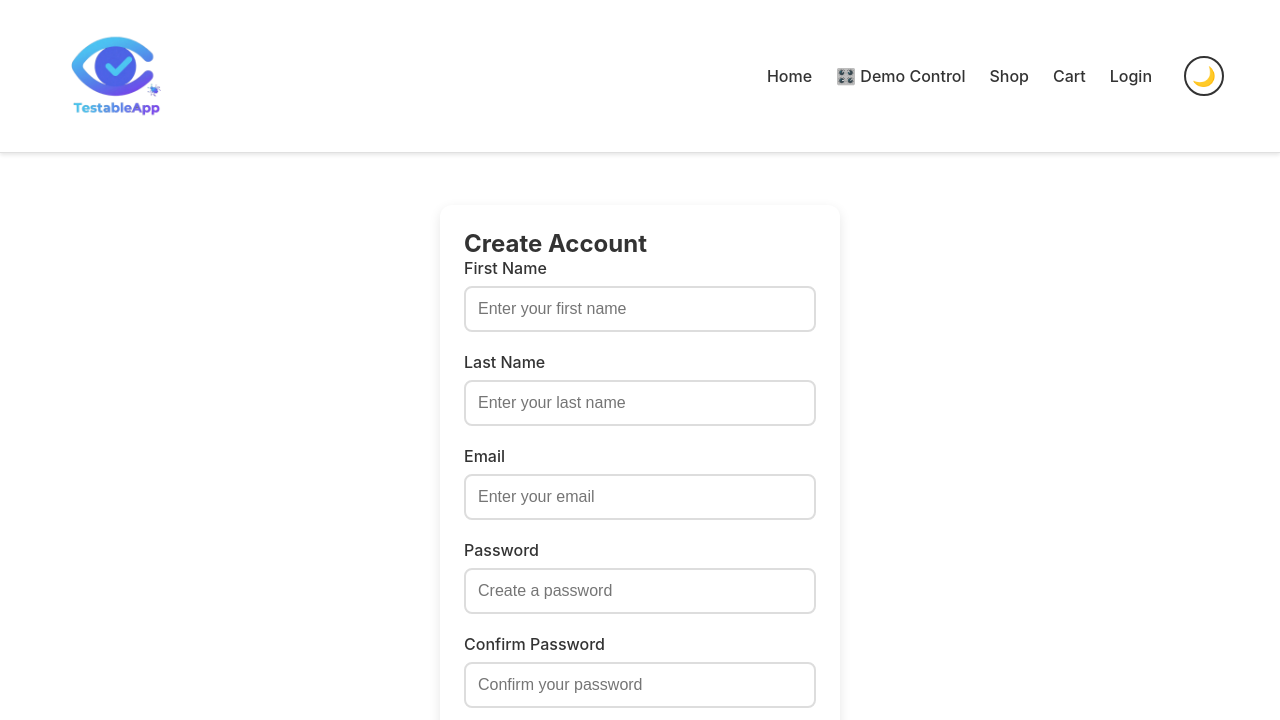
Authentication Flow › Register Page › should validate password strength
Type "John" into the field with test id "firstName-input".
click(640, 309); type("John")  # box [464,286,816,332]
Type "Doe" into the field with test id "lastName-input".
click(640, 403); type("Doe")  # box [464,380,816,426]
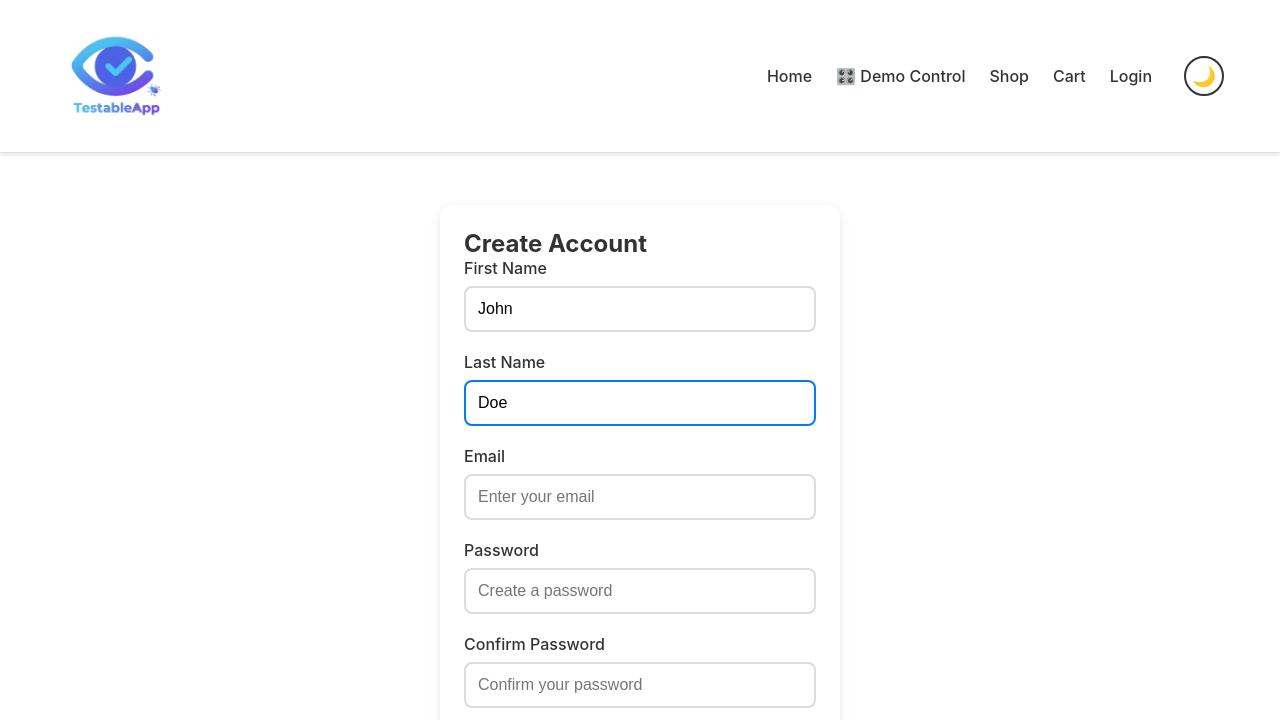
Type "john@example.com" into the field with test id "email-input".
click(640, 497); type("john@example.com")  # box [464,474,816,520]
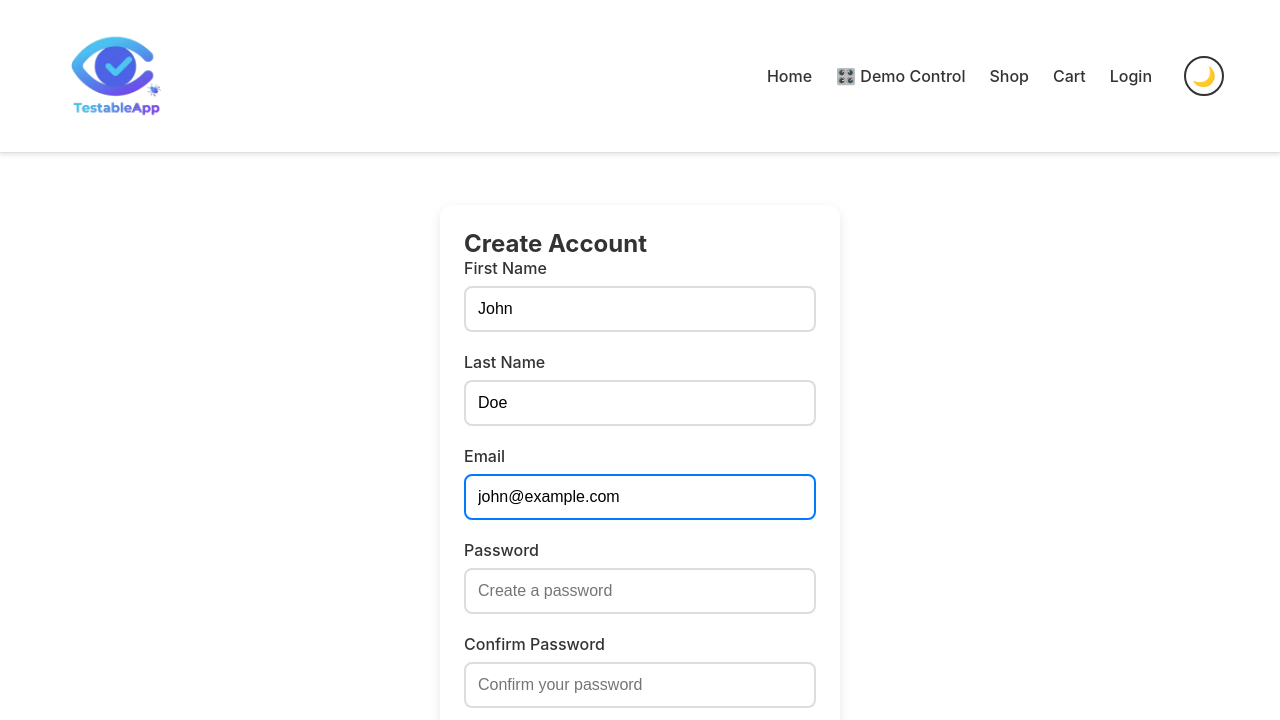
Type "weakpassword" into the password field with test id "password-input".
click(640, 591); type("weakpassword")  # box [464,568,816,614]
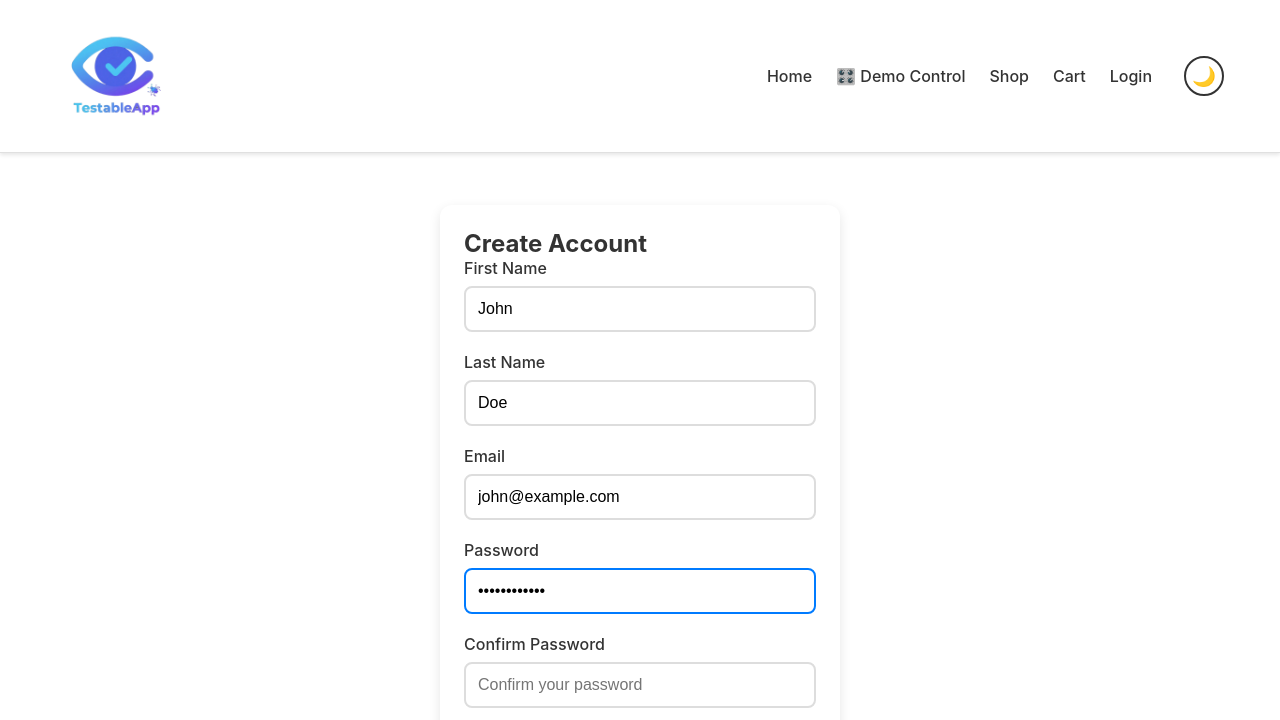
Type "weakpassword" into the password field with test id "confirmPassword-input".
click(640, 685); type("weakpassword")  # box [464,662,816,708]
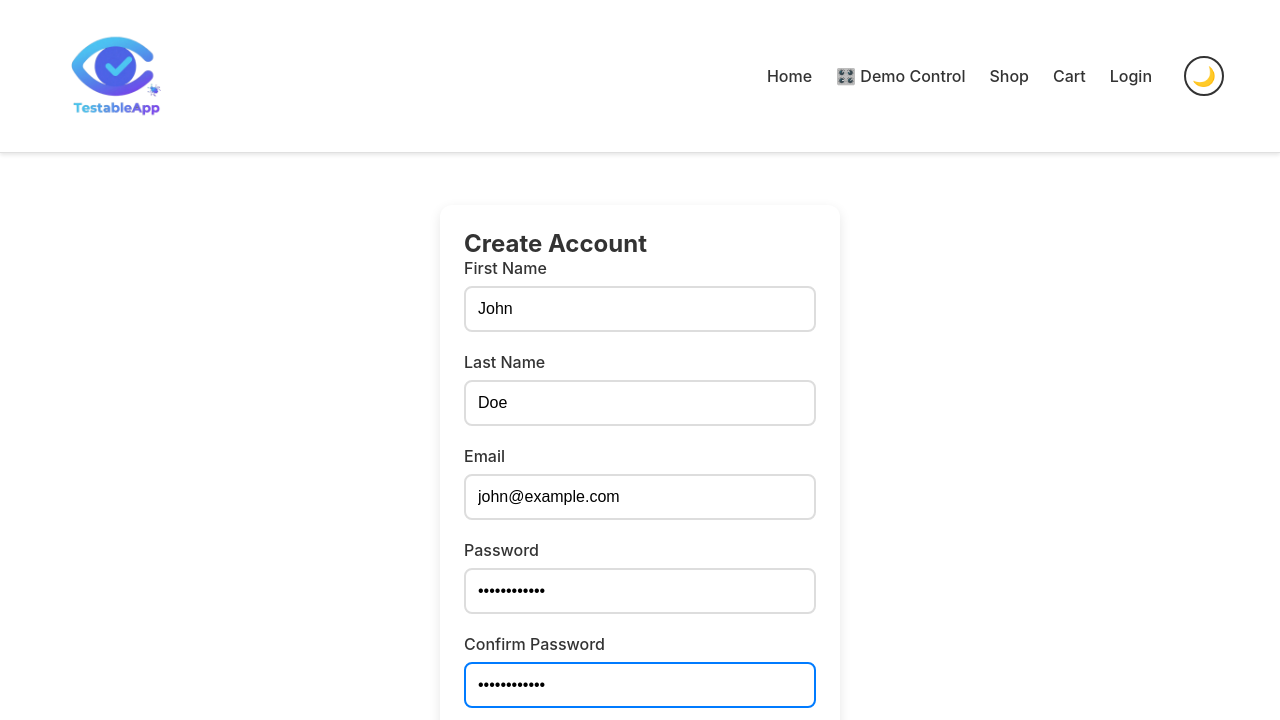
Scroll
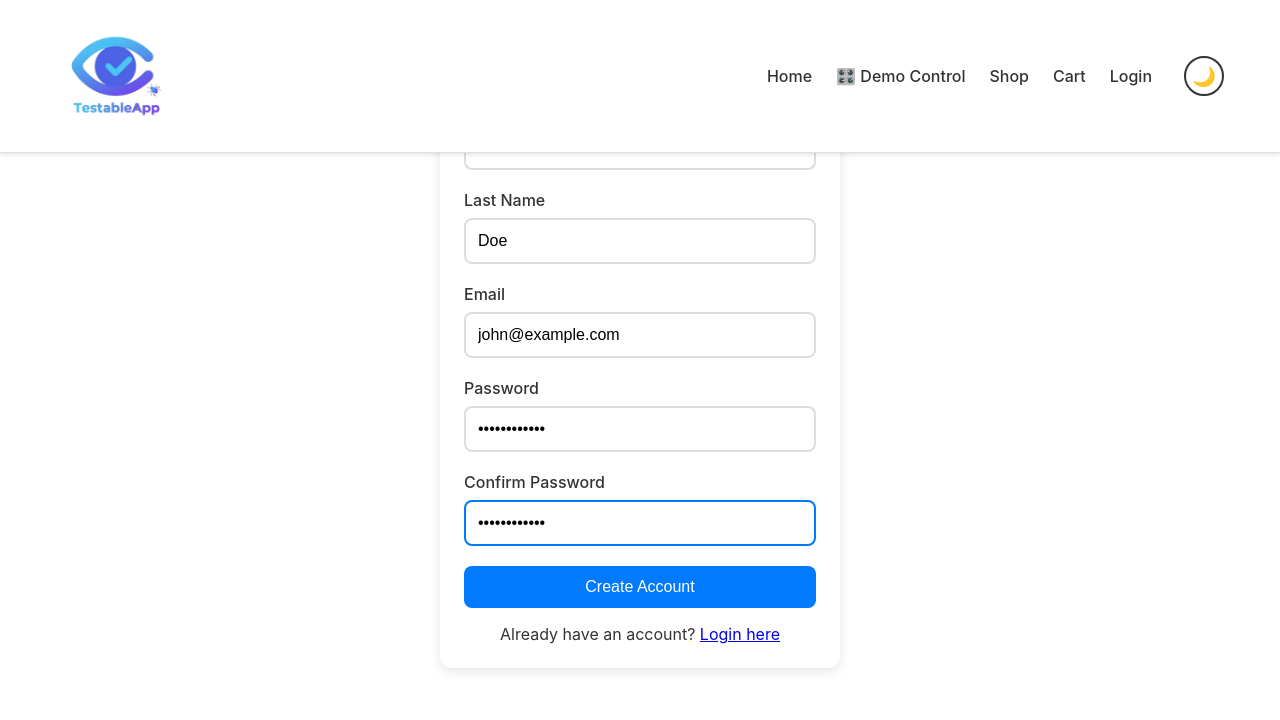
Click the button with test id "register-submit".
click(640, 587)  # box [464,566,816,608]
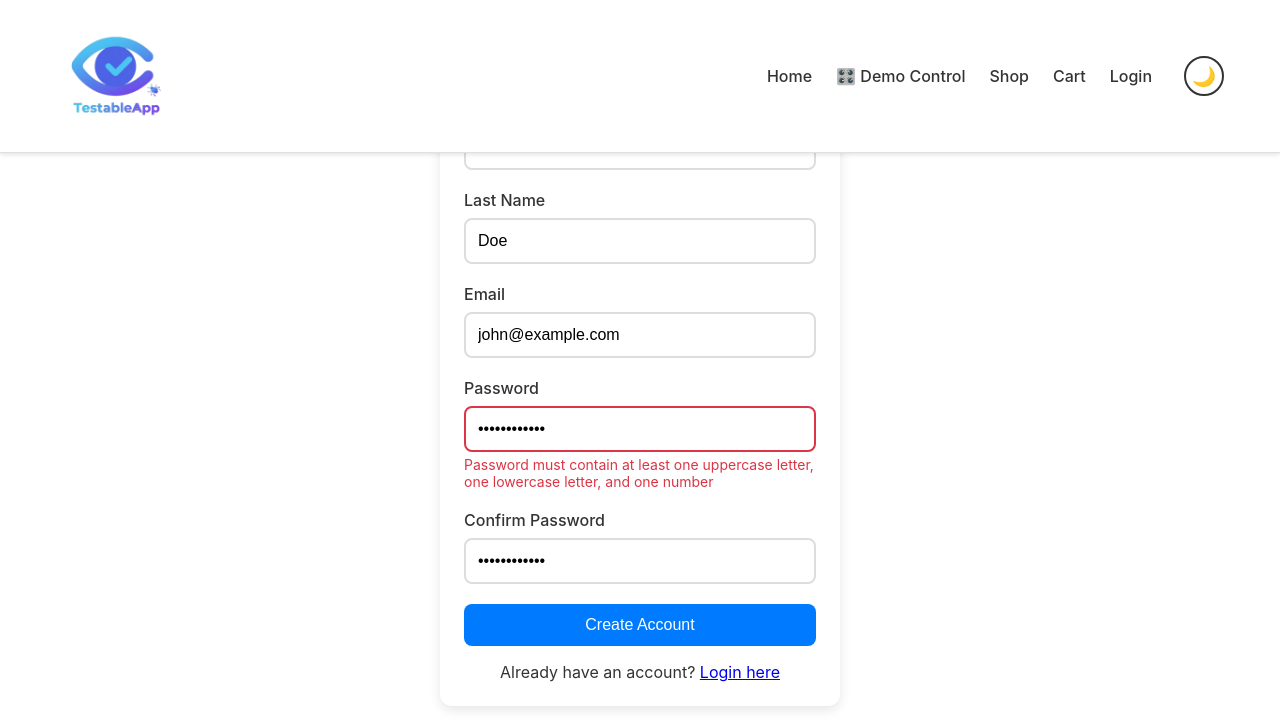
Expected: the text with test id "password-error" shows "Password must contain at least one uppercase letter, one lowercase letter, and one number", [464,456,814,490]
